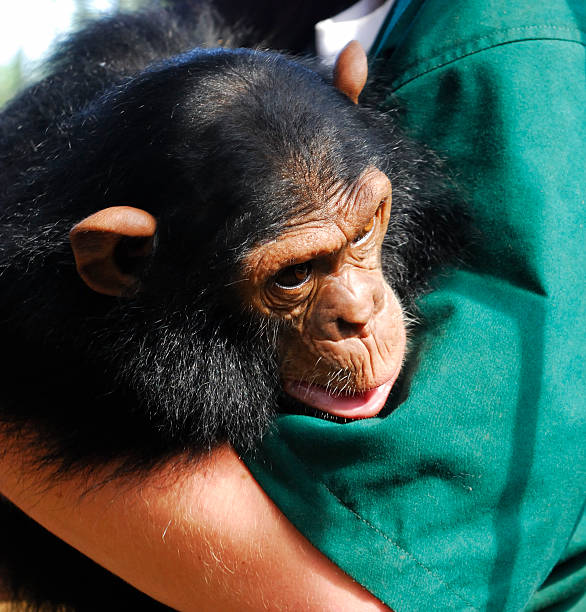chimpanzee: (76, 55, 443, 435)
